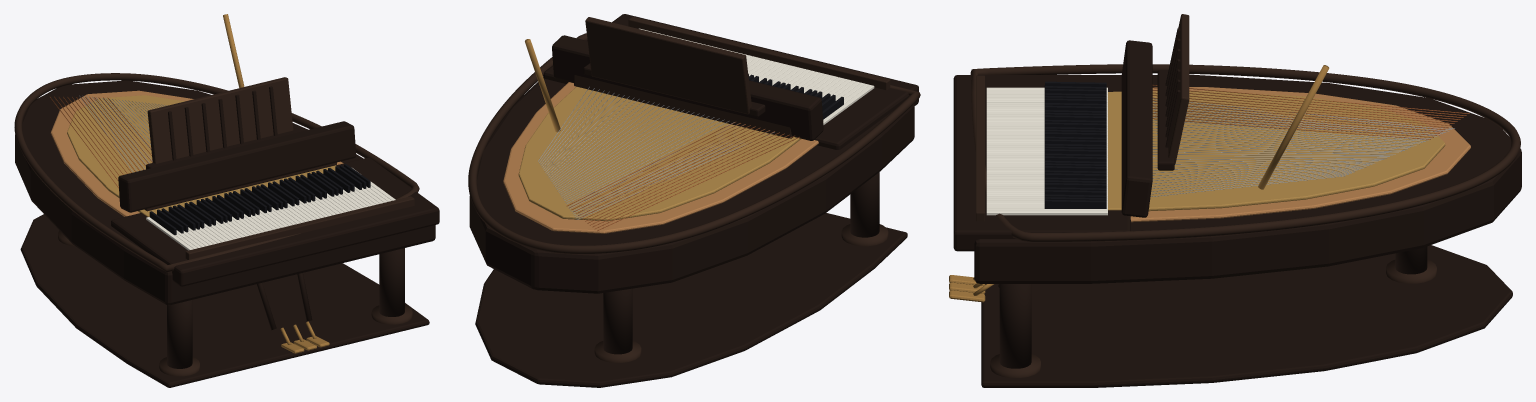
The model's file is concert-grand-piano.glb.
3 views of the same model, side by side, from view 1: azimuth 30°, elevation 25°; view 2: azimuth 150°, elevation 25°; view 3: azimuth 270°, elevation 25° (orthographic). The views are drawn at different scales.
Parts seen in each view (by area): view 1: raised_lid, grand_piano_body, keyboard_bed, fallboard, cast_iron_plate, music_desk, grand_piano_rounded_rim, spruce_soundboard, key_slip, leg_1, leg_2, tuning_pin_block (+4 smaller); view 2: raised_lid, grand_piano_body, cast_iron_plate, music_desk, grand_piano_rounded_rim, spruce_soundboard, fallboard, keyboard_bed, key_slip, tuning_pin_block, leg_3, leg_1 (+4 smaller); view 3: raised_lid, grand_piano_body, cast_iron_plate, grand_piano_rounded_rim, keyboard_bed, spruce_soundboard, fallboard, leg_2, music_desk, key_slip, music_desk_ledge, lid_prop (+5 smaller).
Part boxes in pixels (x1=…): raised_lid: x1=20, y1=214, x2=429, y2=387; grand_piano_body: x1=15, y1=80, x2=435, y2=305; keyboard_bed: x1=111, y1=157, x2=439, y2=286; fallboard: x1=118, y1=121, x2=356, y2=212; cast_iron_plate: x1=67, y1=95, x2=335, y2=216; music_desk: x1=147, y1=77, x2=293, y2=163; grand_piano_rounded_rim: x1=14, y1=73, x2=419, y2=272; spruce_soundboard: x1=50, y1=90, x2=343, y2=216; key_slip: x1=185, y1=196, x2=414, y2=259; leg_1: x1=167, y1=300, x2=192, y2=368; leg_2: x1=379, y1=248, x2=404, y2=316; tuning_pin_block: x1=144, y1=162, x2=336, y2=211; raised_lid: x1=475, y1=213, x2=907, y2=387; grand_piano_body: x1=469, y1=78, x2=914, y2=293; cast_iron_plate: x1=518, y1=86, x2=801, y2=221; music_desk: x1=585, y1=17, x2=751, y2=114; grand_piano_rounded_rim: x1=468, y1=33, x2=920, y2=253; spruce_soundboard: x1=503, y1=82, x2=818, y2=233; fallboard: x1=552, y1=35, x2=823, y2=140; keyboard_bed: x1=543, y1=14, x2=918, y2=149; key_slip: x1=628, y1=16, x2=890, y2=90; tuning_pin_block: x1=574, y1=75, x2=792, y2=138; leg_3: x1=603, y1=288, x2=632, y2=354; leg_1: x1=850, y1=172, x2=879, y2=237; raised_lid: x1=981, y1=245, x2=1512, y2=387; grand_piano_body: x1=974, y1=74, x2=1521, y2=283; cast_iron_plate: x1=1108, y1=91, x2=1445, y2=211; grand_piano_rounded_rim: x1=970, y1=64, x2=1520, y2=241; keyboard_bed: x1=953, y1=75, x2=1130, y2=251; spruce_soundboard: x1=1130, y1=87, x2=1470, y2=222; fallboard: x1=1121, y1=40, x2=1152, y2=217; leg_2: x1=999, y1=284, x2=1031, y2=368; music_desk: x1=1168, y1=14, x2=1189, y2=164; key_slip: x1=976, y1=75, x2=984, y2=221; music_desk_ledge: x1=1157, y1=70, x2=1174, y2=170; lid_prop: x1=1258, y1=65, x2=1329, y2=189.
Size of the model in its own units: 1.69 by 1.33 by 2.36.
